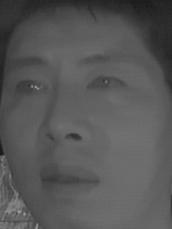eye: (85, 73, 127, 96), (12, 76, 48, 100)
mouth: (35, 157, 102, 201)
